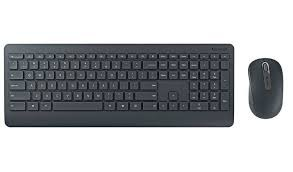keyboard: (0, 39, 238, 131)
mouse: (244, 56, 287, 124)
